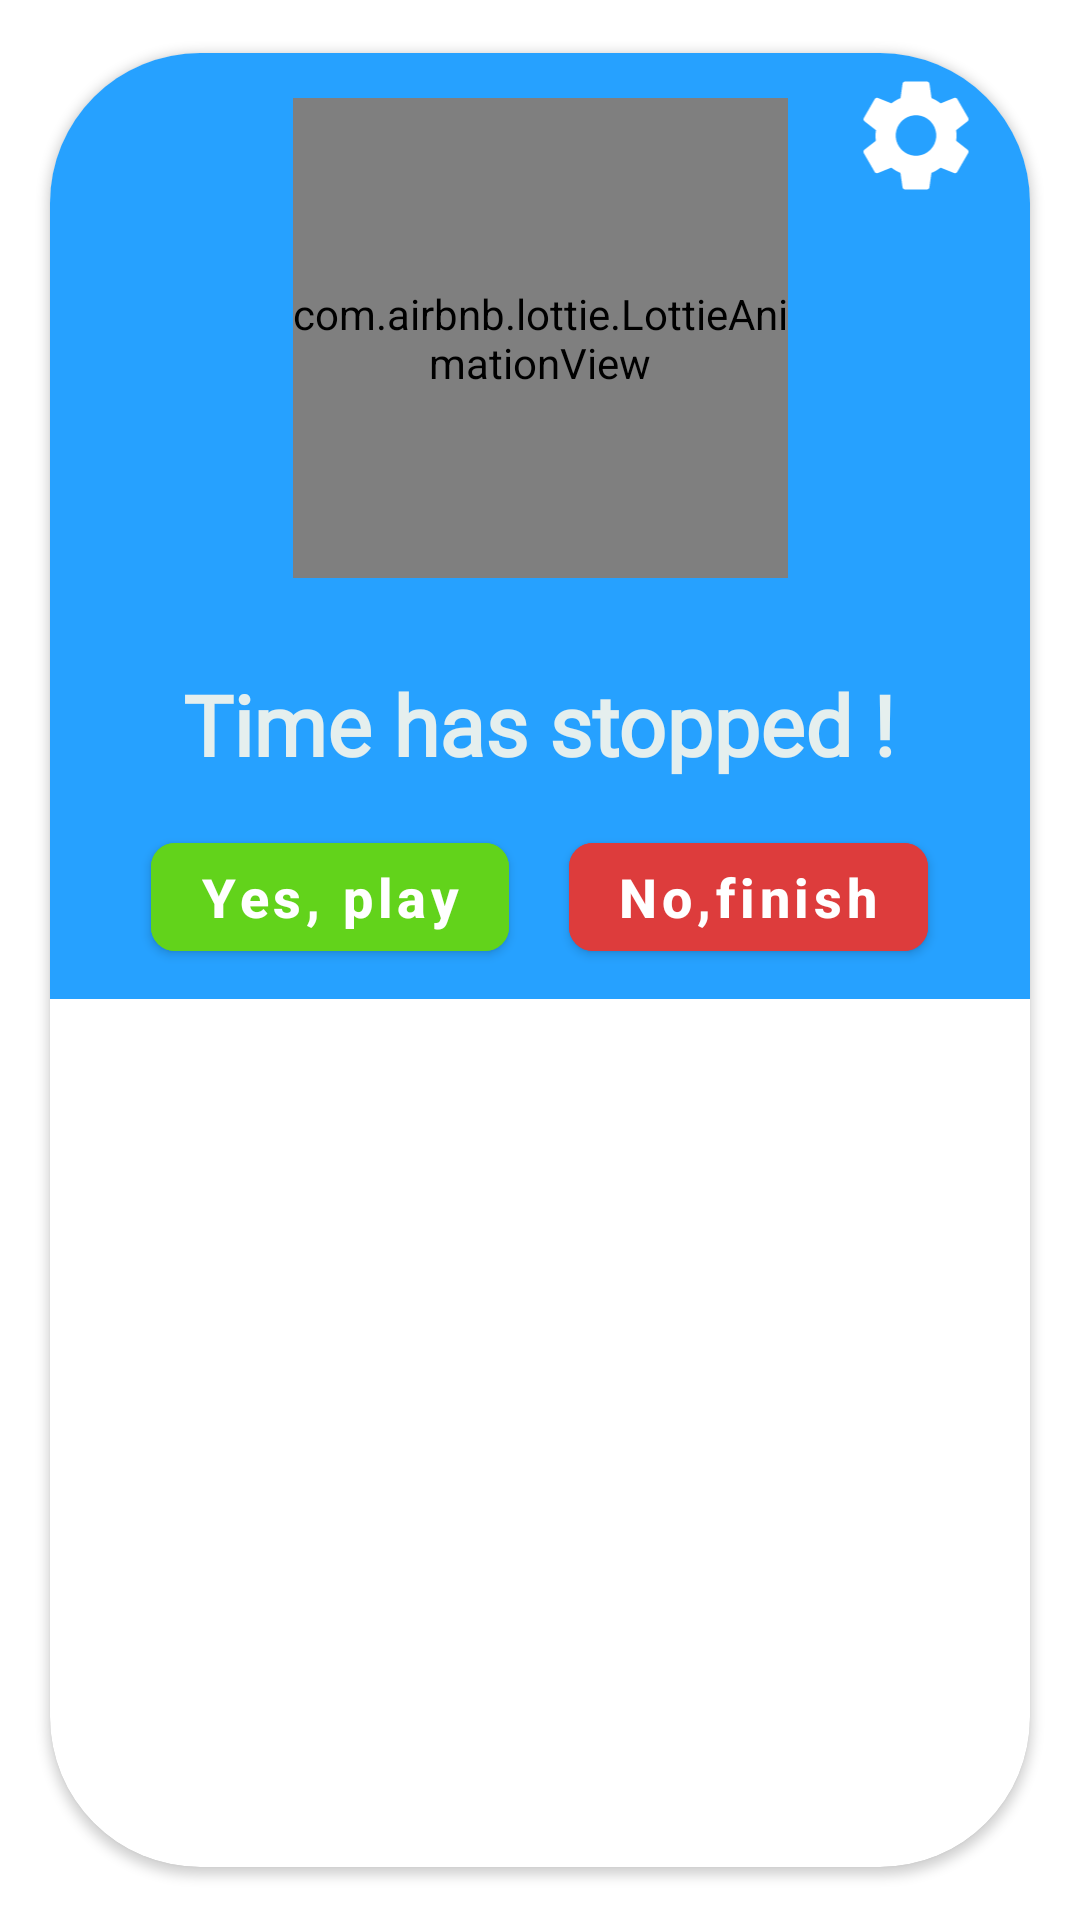

Icon click points for this 1080px x 1920px phone screenshot, format (x=x, y=y):
settings: (x=916, y=135)
